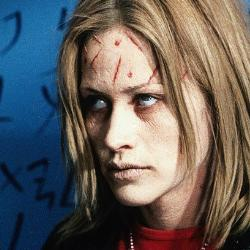face: (50, 4, 248, 220)
